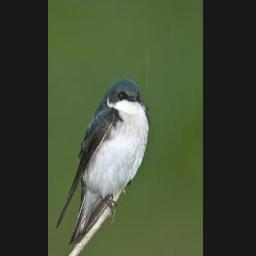Swallow: (55, 73, 152, 246)
